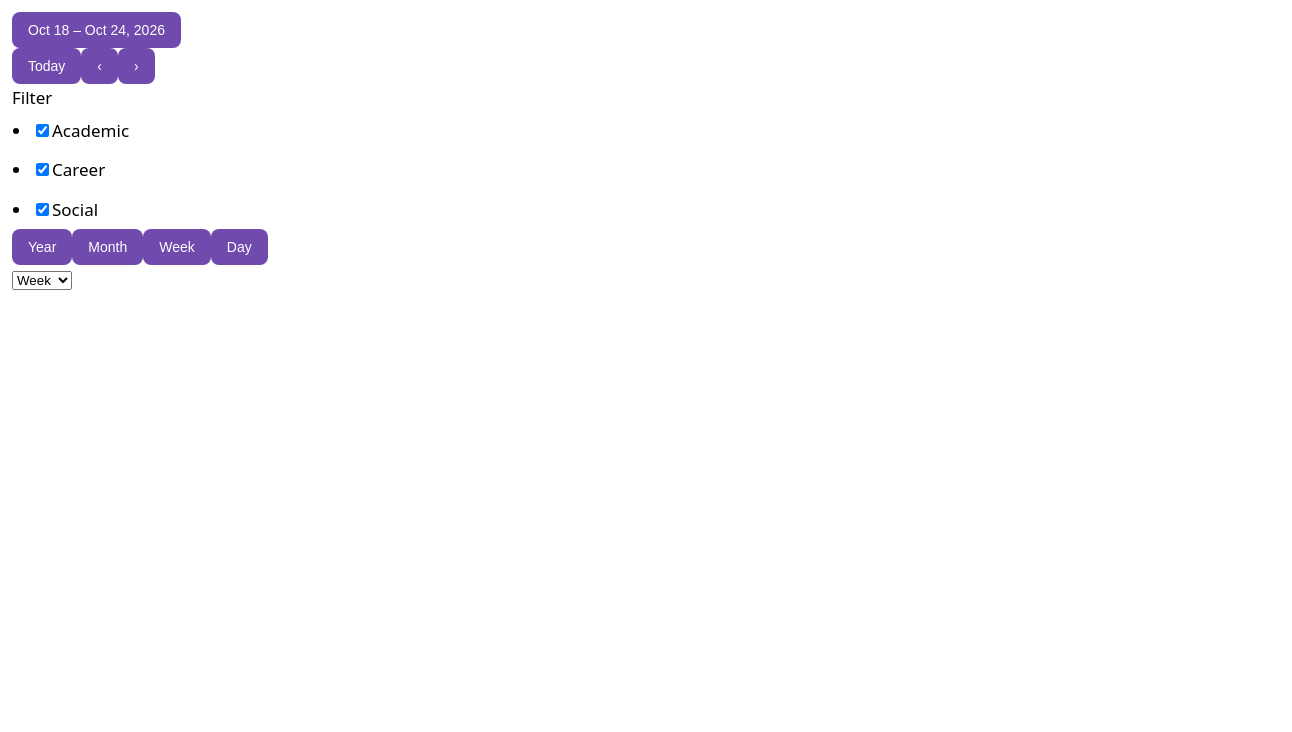
date picker › browses the mini month from the strip, without moving the view
Click the button "Oct 18 – Oct 24, 2026" at (96, 30), box [12,12,181,48]
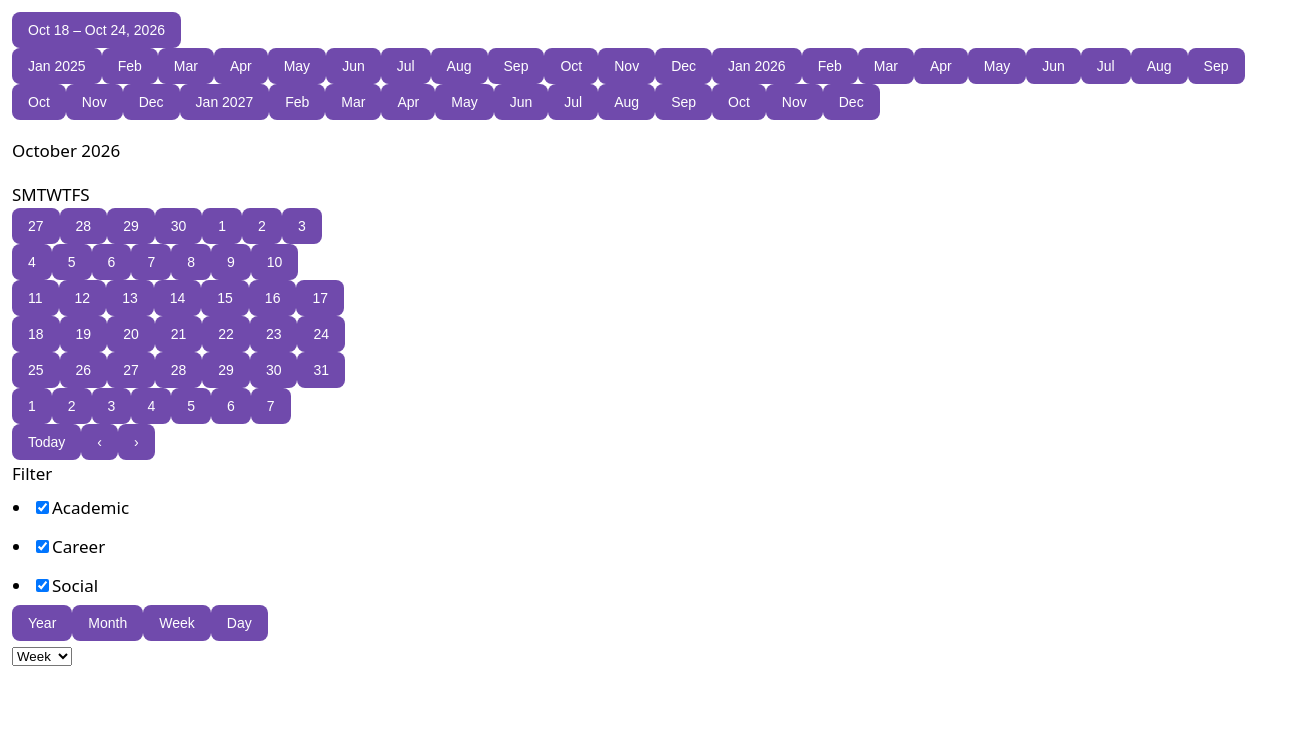
Click the button named "Dec 2026" at (151, 102), box [123,84,180,120]
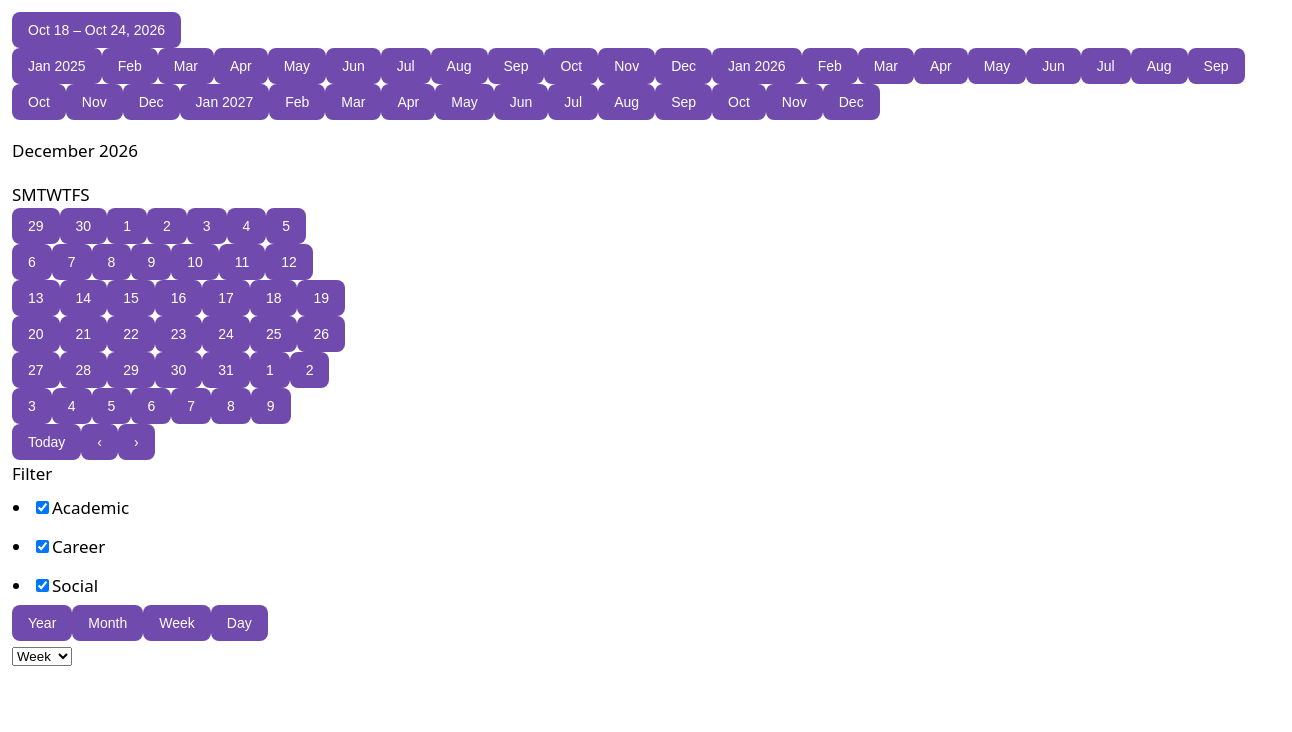
Check: the element named "Months" is shown, box [12,48,1277,120]
Check: the text "December 2026" is shown, box [12,139,138,162]
